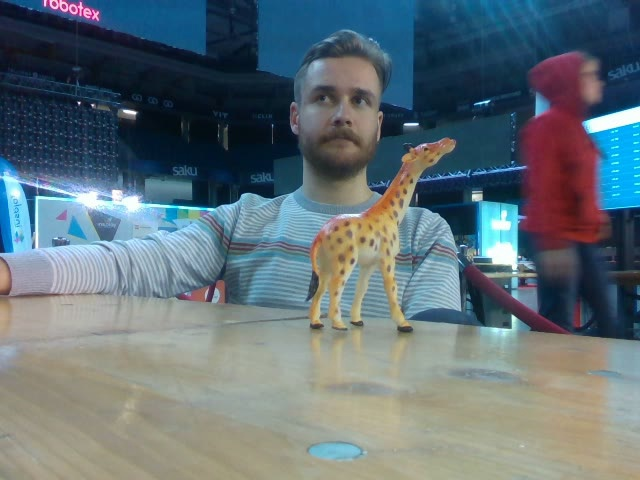toy: (303, 136, 456, 338)
